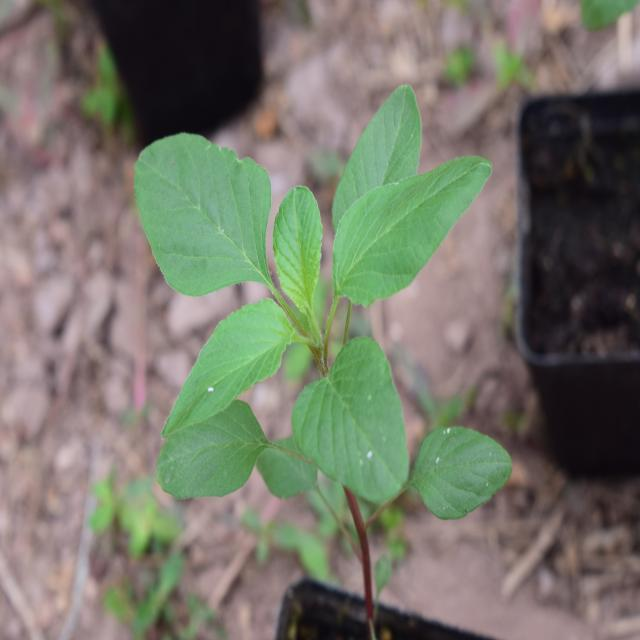pigweed: (115, 84, 500, 534)
